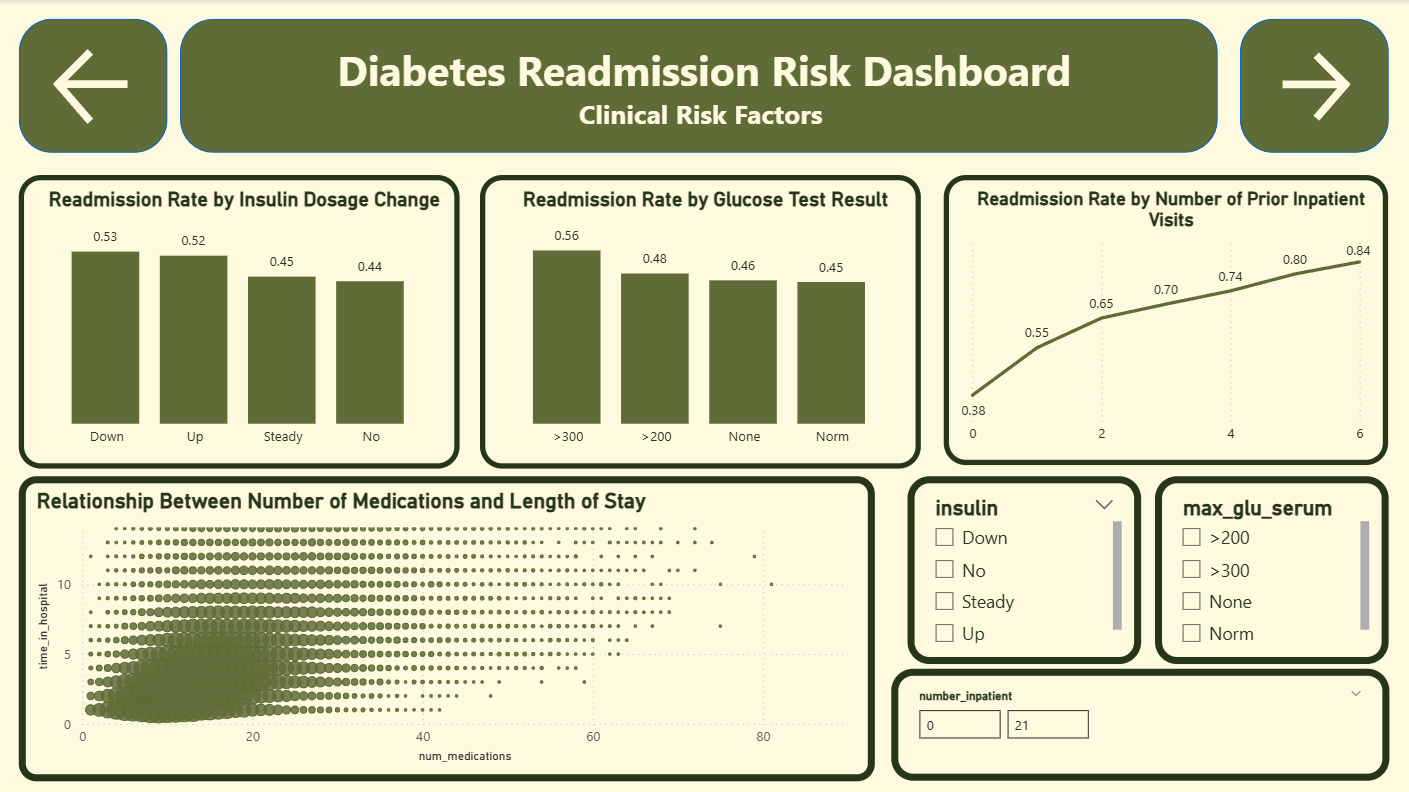

What the dashboard file says about the page in this screenshot:
{"tool":"powerbi","page":{"name":"Clinical Risk Factors ","canvas":[1280,720],"ordinal":1},"visuals":[{"type":"shape","box":[163.3,16.7,941.7,121.7],"z":0},{"type":"textbox","box":[278.6,32.9,720.4,91.9],"z":1000},{"type":"shape","box":[1125,16.7,135,121.7],"z":2000},{"type":"shape","box":[16.7,16.7,135,121.7],"z":3000},{"type":"actionButton","box":[16.7,38.3,135,80],"z":4000},{"type":"lineChart","title":"Readmission Rate by Number of Prior Inpatient Visits","fields":{"Category":["diabetic_data1.number_inpatient"],"Y":["diabetic_data1.Readmission Rate"]},"box":[856.7,158.3,403.3,263.3],"z":5000},{"type":"columnChart","title":"Readmission Rate by Glucose Test Result","fields":{"Category":["diabetic_data1.max_glu_serum"],"Y":["diabetic_data1.Readmission Rate"]},"box":[435,158.3,400,266.7],"z":6000},{"type":"columnChart","title":"Readmission Rate by Insulin Dosage Change","fields":{"Category":["diabetic_data1.insulin"],"Y":["diabetic_data1.Readmission Rate"]},"box":[16.7,158.3,400,266.7],"z":7000},{"type":"scatterChart","title":"Relationship Between Number of Medications and Length of Stay","fields":{"X":["diabetic_data1.num_medications"],"Y":["diabetic_data1.time_in_hospital"],"Size":["CountNonNull(diabetic_data1.encounter_id)"]},"box":[16.7,431.7,776.7,276.7],"z":8000},{"type":"slicer","fields":{"Values":["diabetic_data1.insulin"]},"box":[823.3,431.7,211.7,170],"z":9000},{"type":"slicer","fields":{"Values":["diabetic_data1.max_glu_serum"]},"box":[1048.3,431.7,211.7,170],"z":10000},{"type":"slicer","fields":{"Values":["diabetic_data1.number_inpatient"]},"box":[808.3,606.7,451.7,101.7],"z":11000},{"type":"actionButton","box":[1150,41.7,85,73.3],"z":12000}]}

Visuals, with their boxes in screenshot pixels (x1, y1, x2, y2), scaled from the page's 1280x720 canvas onto the 1409x792 screenshot:
shape: 180 18 1216 152
textbox: 307 36 1100 137
shape: 1238 18 1387 152
shape: 18 18 167 152
actionButton: 18 42 167 130
"Readmission Rate by Number of Prior Inpatient Visits" lineChart: 943 174 1387 464
"Readmission Rate by Glucose Test Result" columnChart: 479 174 919 468
"Readmission Rate by Insulin Dosage Change" columnChart: 18 174 459 468
"Relationship Between Number of Medications and Length of Stay" scatterChart: 18 475 873 779
slicer - diabetic_data1.insulin: 906 475 1139 662
slicer - diabetic_data1.max_glu_serum: 1154 475 1387 662
slicer - diabetic_data1.number_inpatient: 890 667 1387 779
actionButton: 1266 46 1359 127
